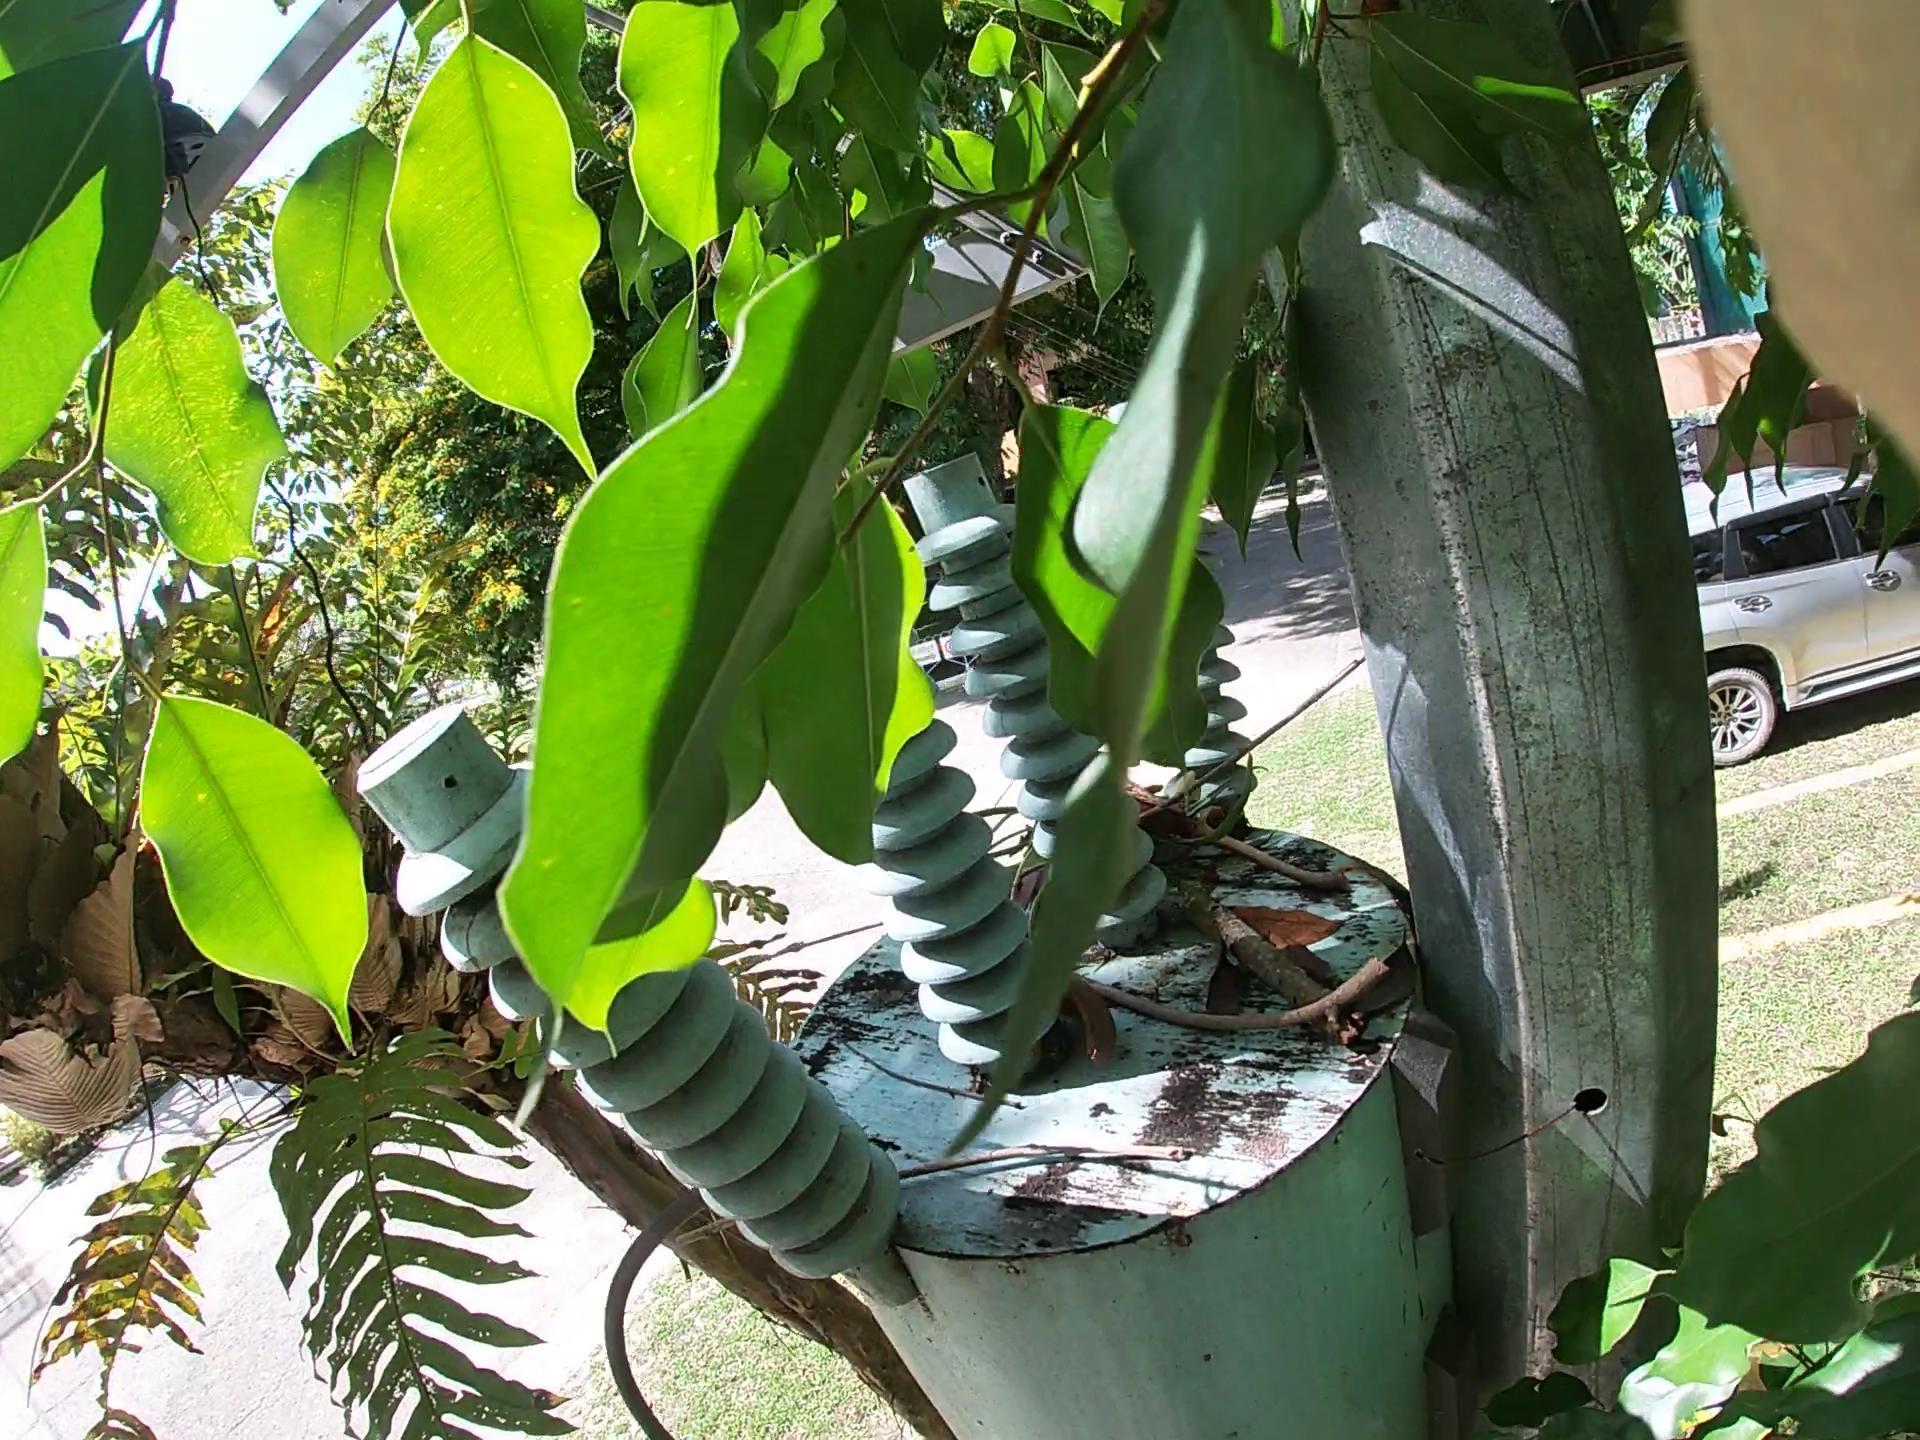leaf: (1209, 852, 1314, 953)
tree branch: (1143, 768, 1380, 1047), (986, 702, 1355, 877), (1025, 930, 1479, 1033), (649, 1151, 1123, 1233)
